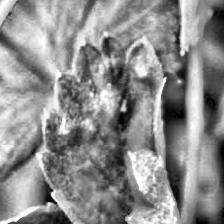Powdery Mildew Leaf: (37, 30, 196, 224)
